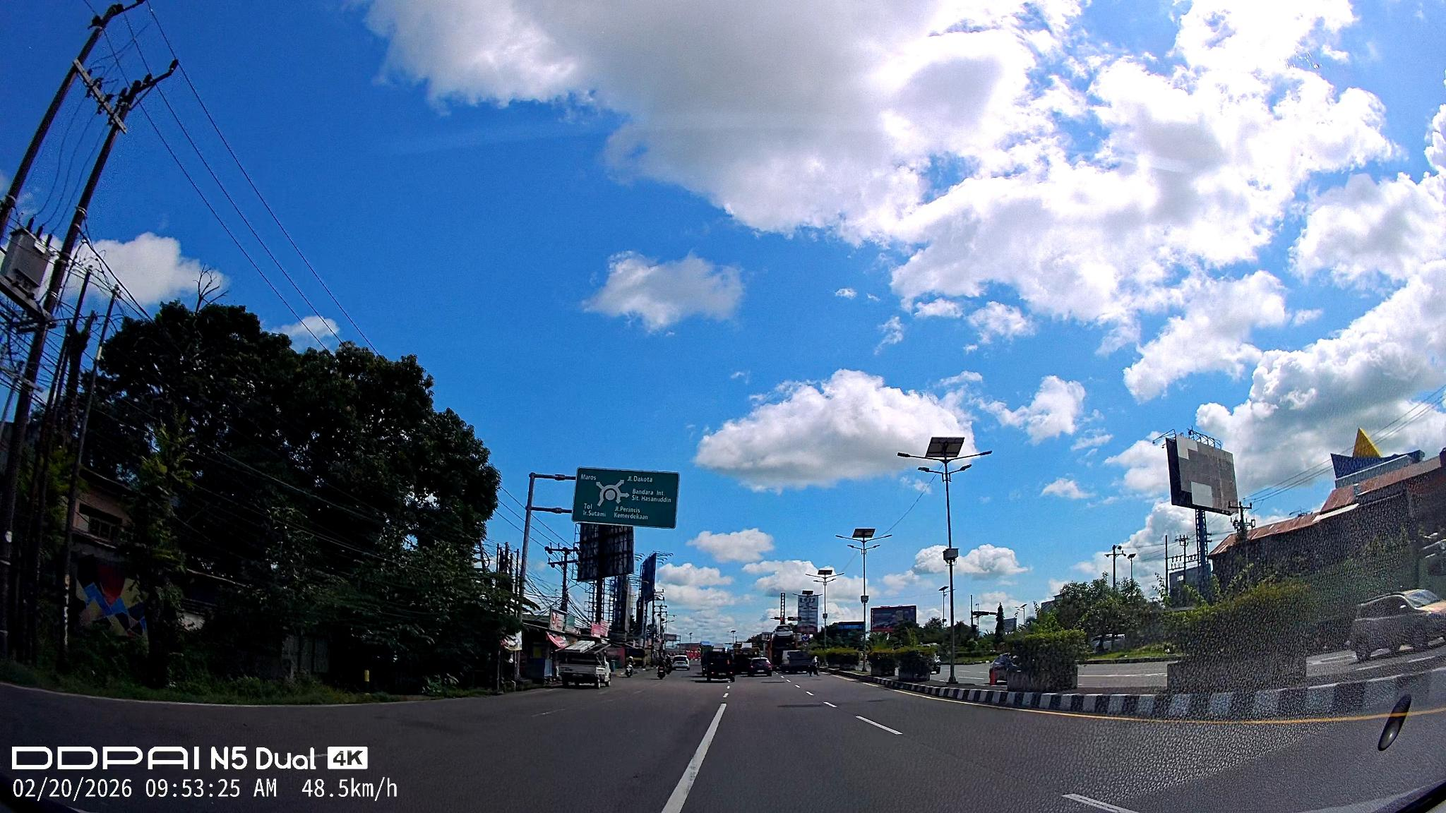rambu_teks: (571, 467, 681, 530)
